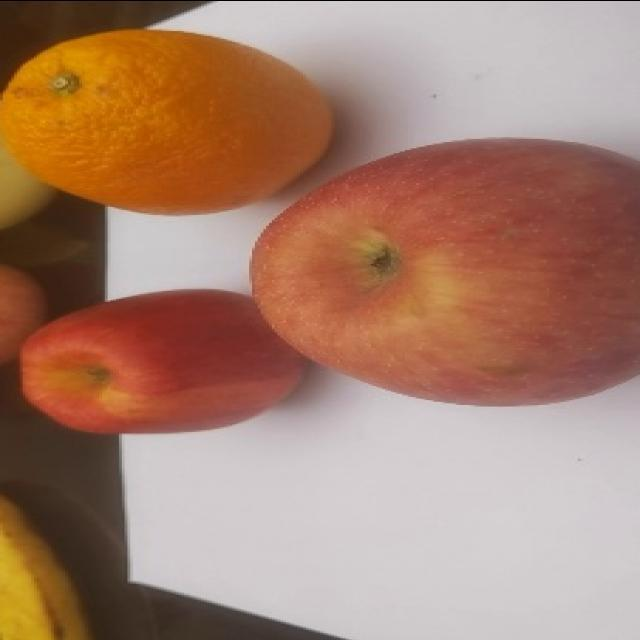Apple: (249, 135, 639, 407), (18, 287, 309, 435)
Orange: (0, 27, 335, 215)
